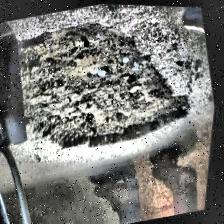pothole: (4, 0, 206, 166)
